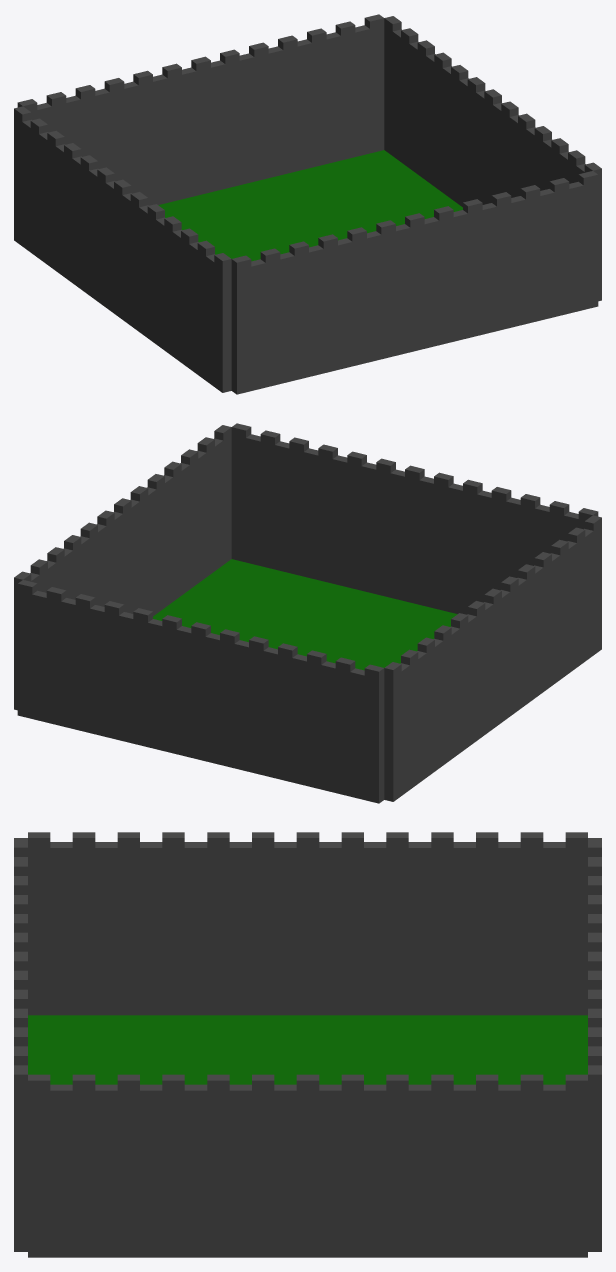
Rendered from arena.fbx.
3 views of the same model, one above another, from view 1: azimuth 30°, elevation 25°; view 2: azimuth 150°, elevation 25°; view 3: azimuth 270°, elevation 25° (orthographic). The views are drawn at different scales.
Visible parts, largest first — view 1: wall, floor; view 2: wall, floor; view 3: wall, floor.
Part boxes in pixels (x1=…): wall: x1=14, y1=14, x2=601, y2=394; floor: x1=158, y1=150, x2=462, y2=261; wall: x1=14, y1=423, x2=601, y2=803; floor: x1=153, y1=559, x2=457, y2=670; wall: x1=14, y1=832, x2=601, y2=1257; floor: x1=28, y1=1015, x2=587, y2=1084.
Bounding box in the file's own units: 8400 × 2791 × 8400.
